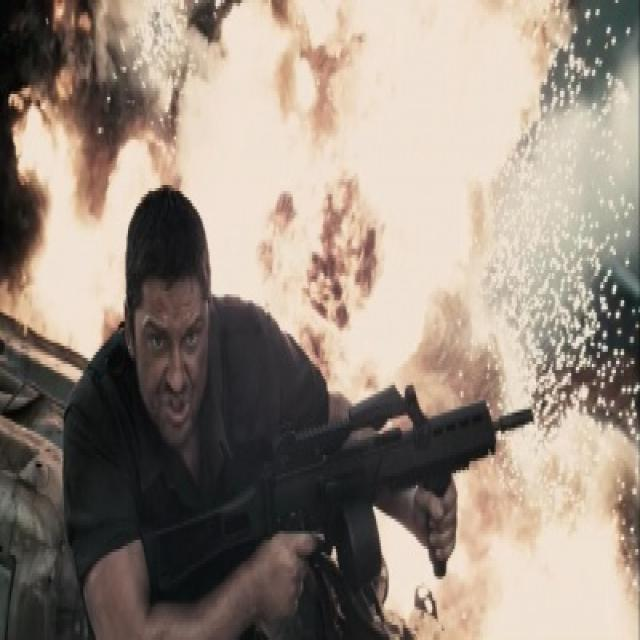rifle: (144, 390, 539, 603)
